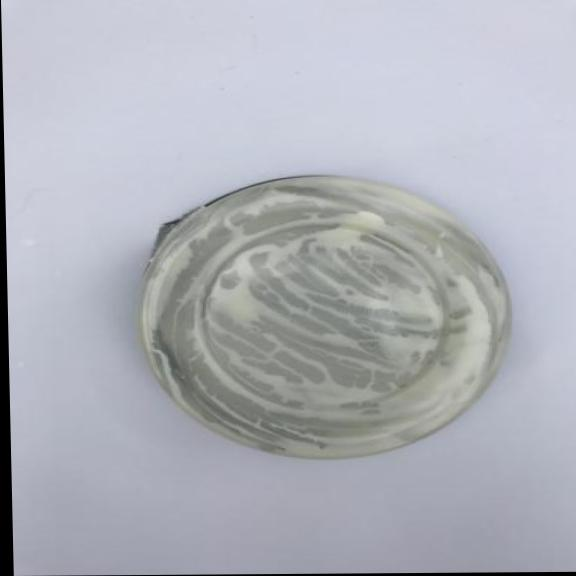Plastik: (129, 164, 522, 469)
